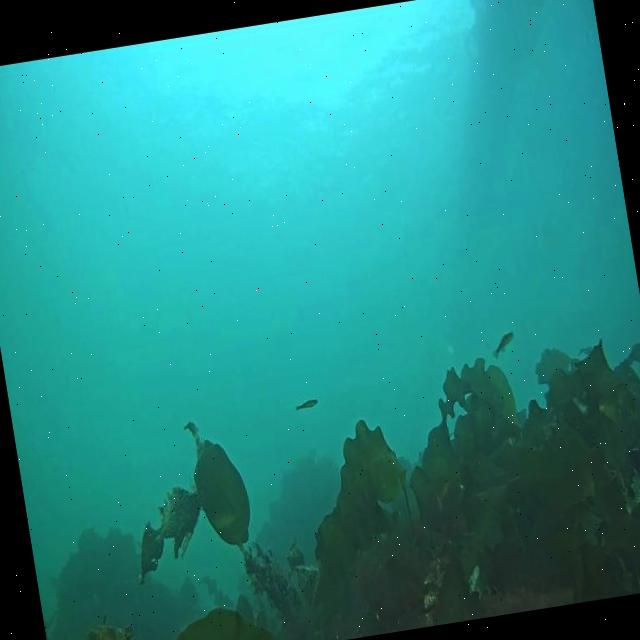fish: (491, 330, 517, 358), (294, 398, 318, 410)
